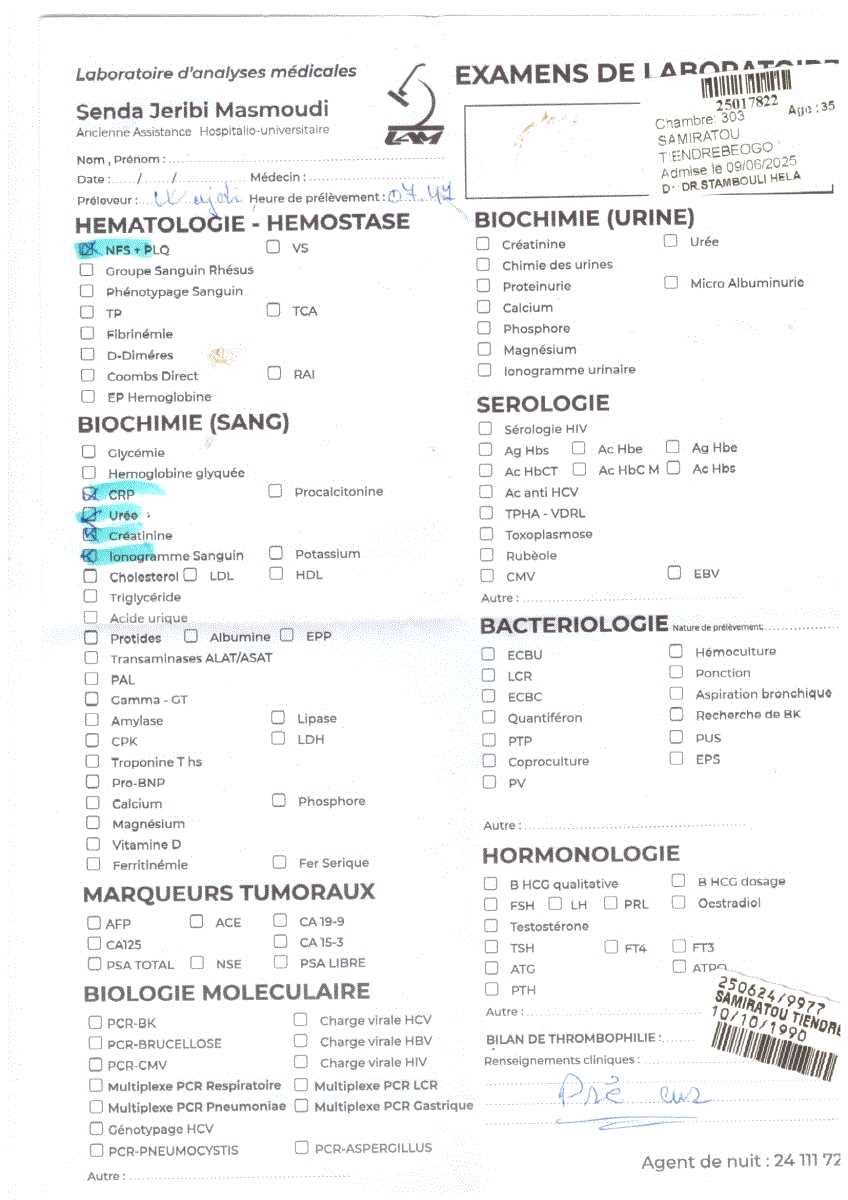zone_analyses: (68, 205, 848, 1200)
zone_date: (656, 165, 815, 179)
zone_patient: (653, 136, 792, 162)
zone_prescripteur: (659, 183, 817, 205)
